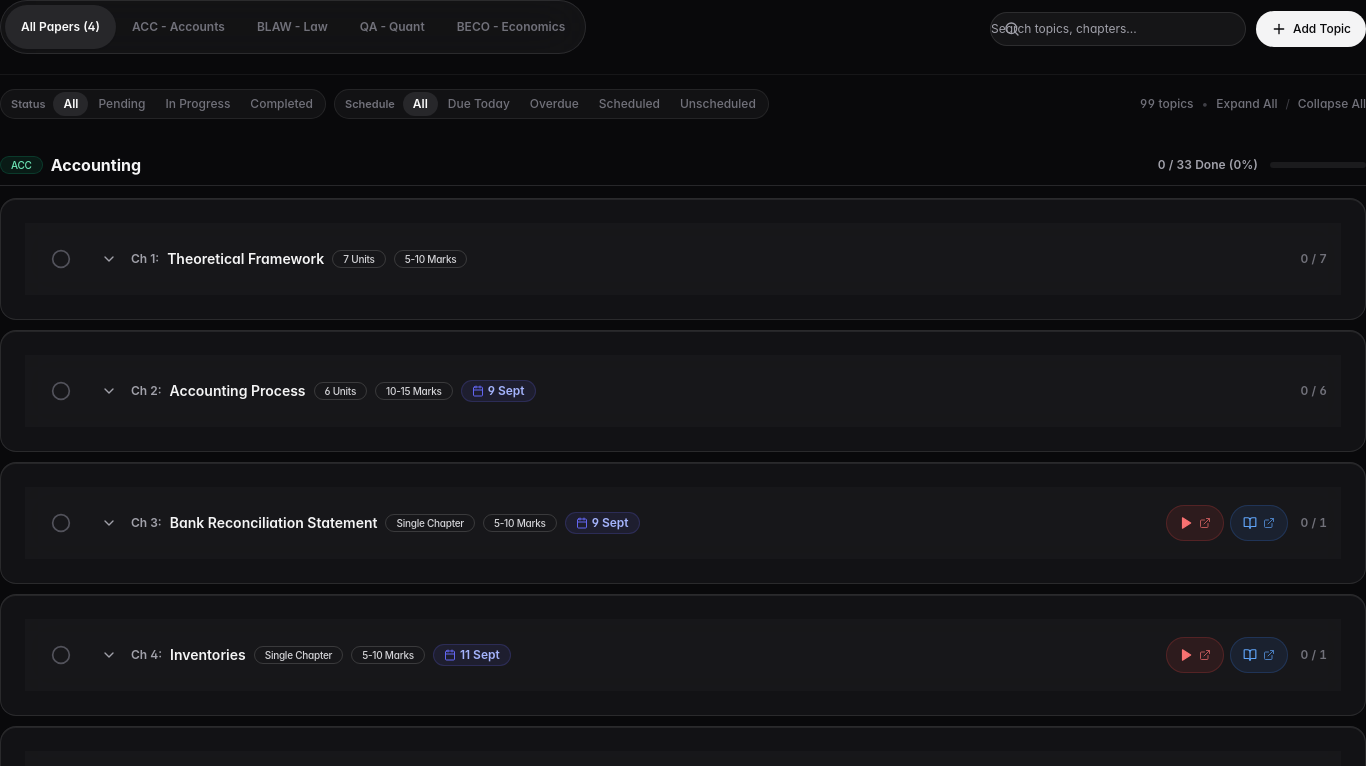
Test: Tier 1 - Feature 8: Hierarchical Lesson Checklist (3-Tier Tree) › has all chapters collapsed by default and exposes units on clicking down arrow
Click to expand
Step 1. Click the button "Ch 1: Theoretical Framework 7 Units 5-10 Marks" → (246, 258), box [91,237,1270,281]
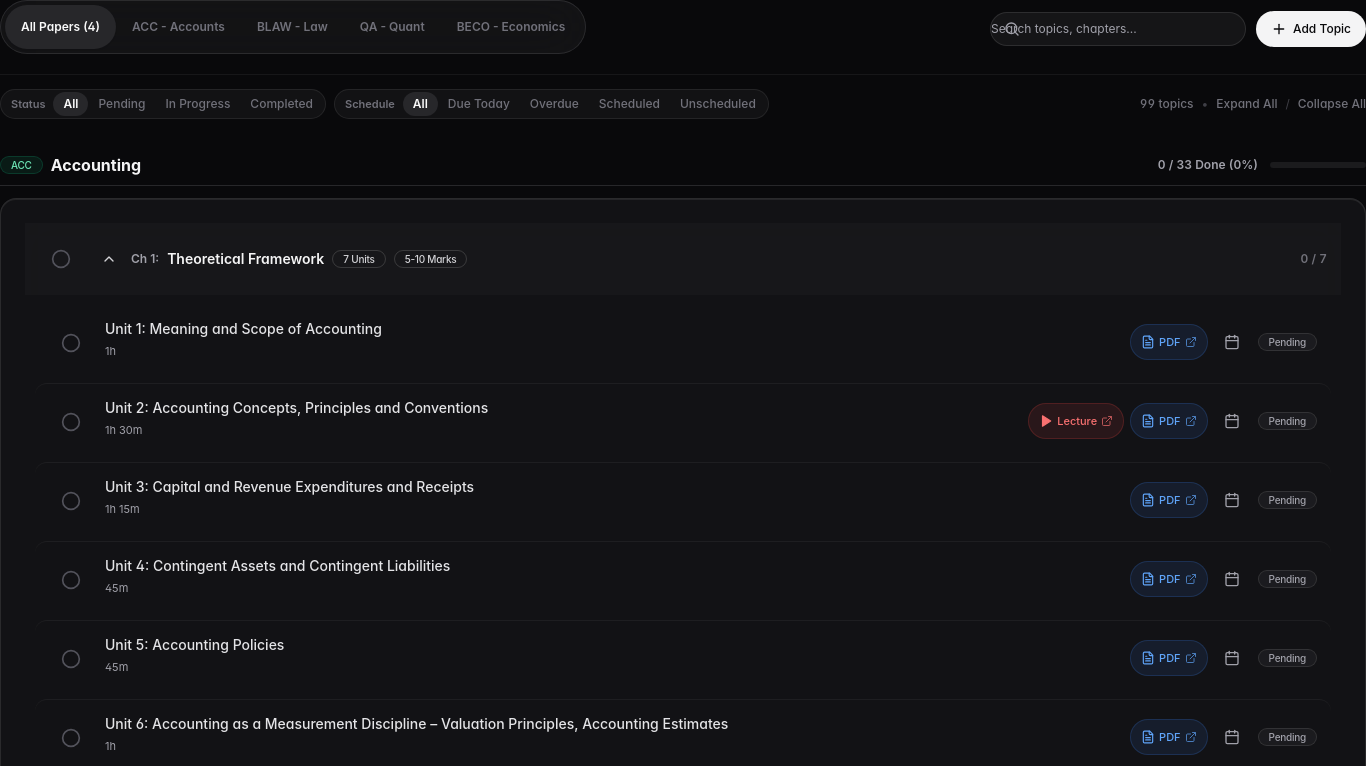
Expected: the button "Ch 1: Theoretical Framework 7 Units 5-10 Marks" is expanded, [91,237,1270,281]
Expected: the button titled "Status:" is shown, [49,321,93,365]
